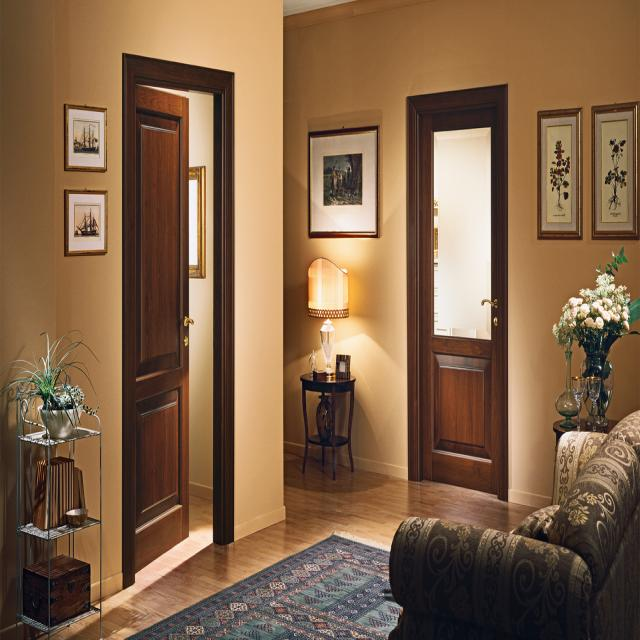close: (412, 84, 508, 489)
open: (117, 77, 231, 577)
